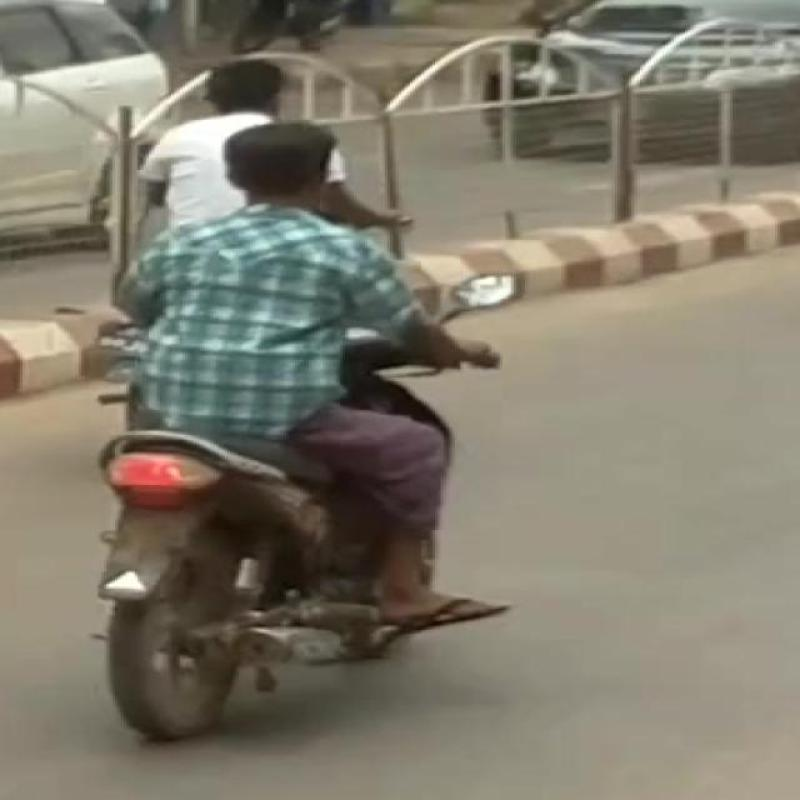nohelmet: (160, 96, 374, 224)
